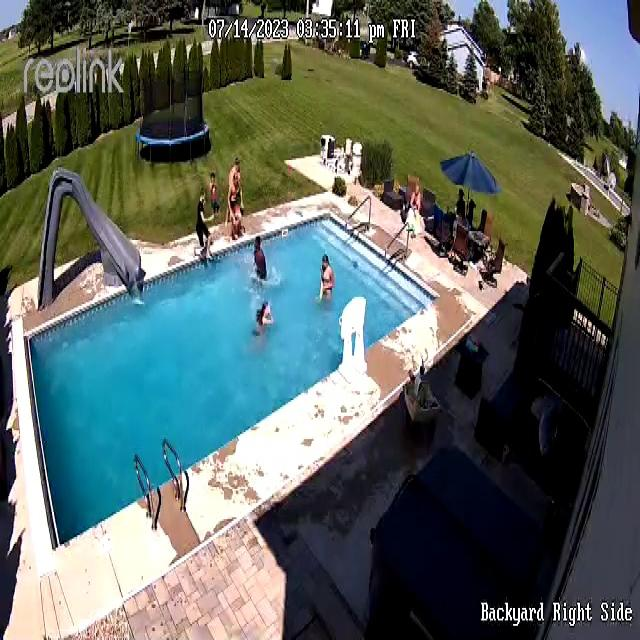adult: (226, 158, 245, 240), (194, 187, 212, 261), (252, 234, 268, 283), (319, 252, 336, 298)
child: (208, 170, 221, 220)
